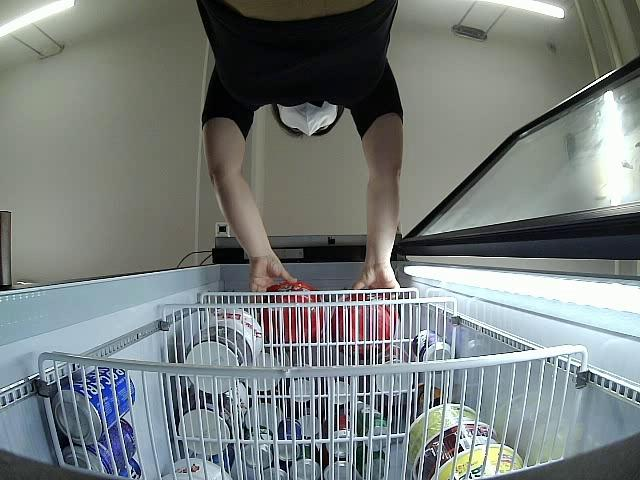00_hand: (347, 269, 406, 313), (249, 263, 297, 312)
